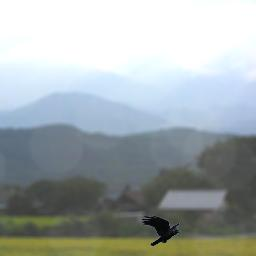Crow: (141, 215, 181, 246)
